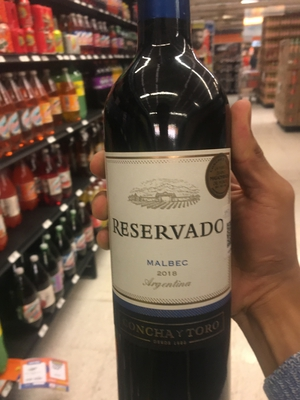reservado malbec: (96, 12, 248, 400)
